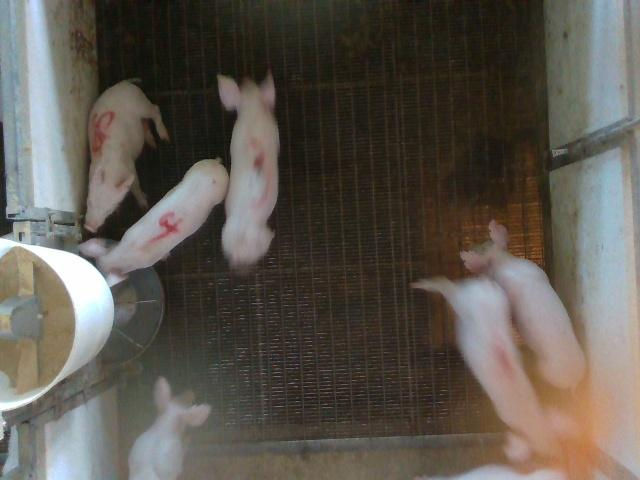pig-1: (414, 278, 572, 462)
pig-3: (218, 71, 280, 269)
pig-4: (79, 159, 229, 286)
pig-5: (85, 79, 169, 232)
